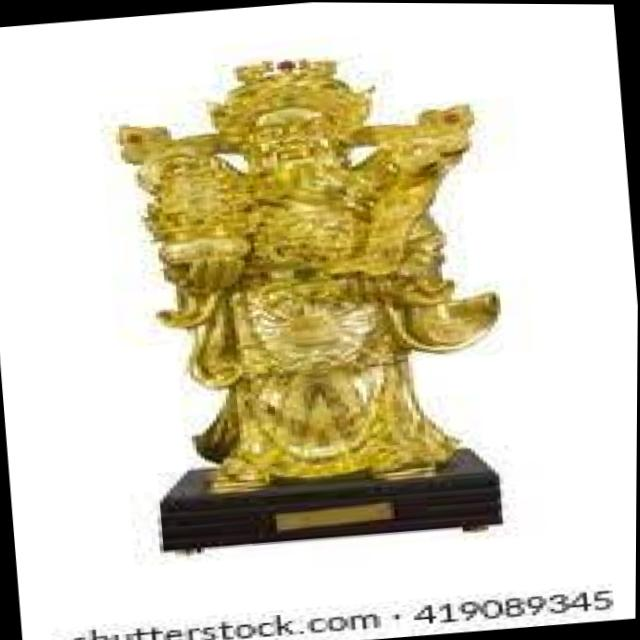Cai shen: (99, 40, 513, 495)
